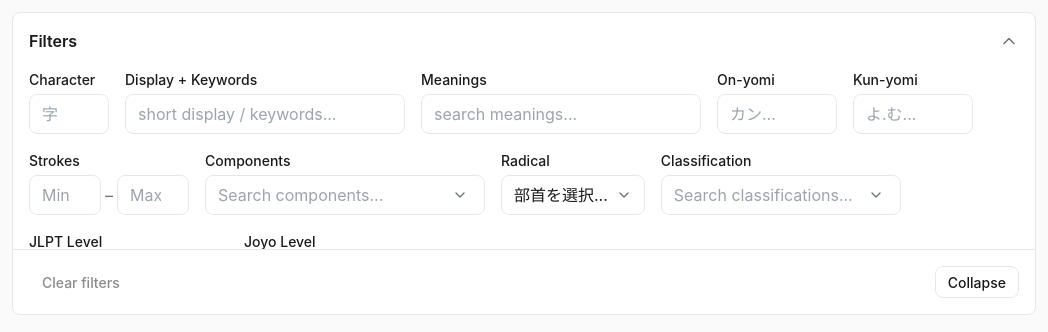
it: KanjiListSectionFilters › collapses when collapse button clicked
Click collapse
What coordinates should you click on to do the following:
click the button "Collapse"
I would click on:
 (977, 282)
Its box is [935,266,1019,298].
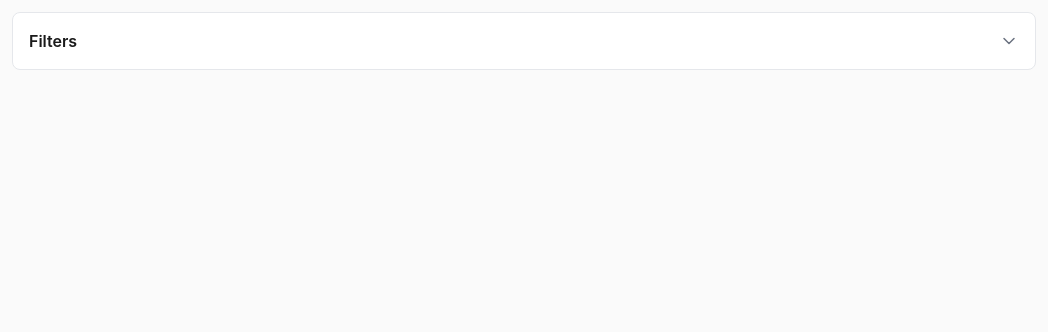
Expected: the button is collapsed, [13,13,1035,69]
